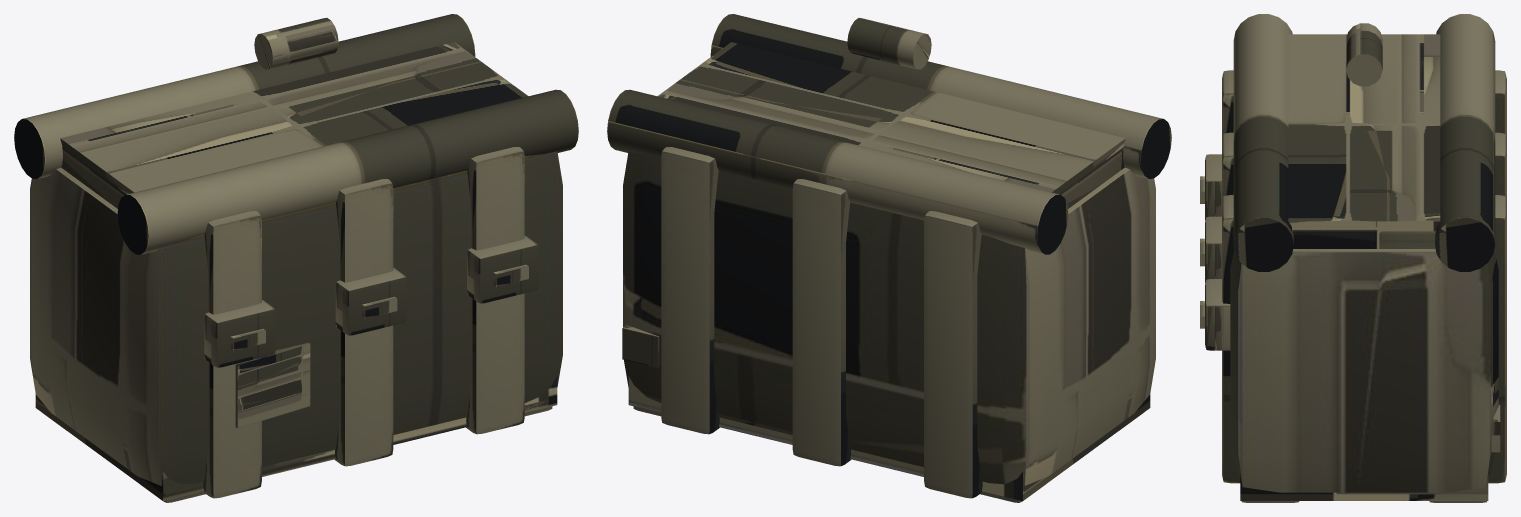
File: PR_loot_bag.glb
The picture shows the model from 3 angles, left to right: view 1: azimuth 30°, elevation 25°; view 2: azimuth 150°, elevation 25°; view 3: azimuth 270°, elevation 25°; orthographic projection. The views are drawn at different scales.
Visible parts, largest first — view 1: PR_loot_bag; view 2: PR_loot_bag; view 3: PR_loot_bag.
Boxes of the visible parts, x1,y1,x2,y2 form: PR_loot_bag: (14, 14, 578, 502); PR_loot_bag: (607, 14, 1171, 502); PR_loot_bag: (1200, 14, 1506, 502).
Bounding box in the file's own units: 0.72 × 0.6143 × 0.4575.
Materials: 1 (1 with a texture image).
